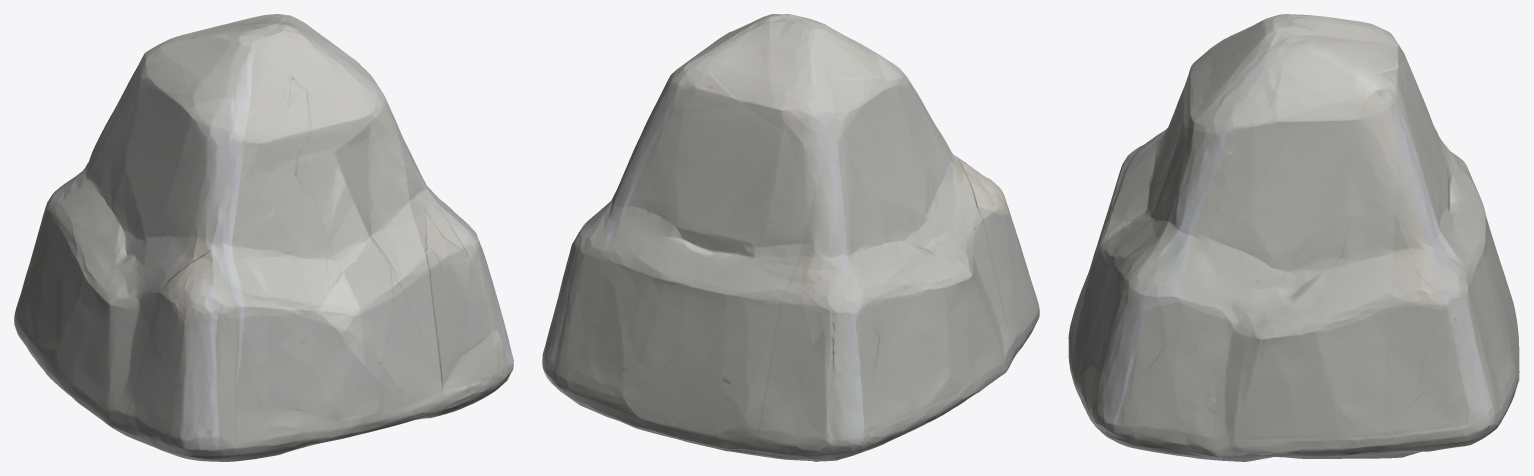
Rendered from rock.glb.
3 views of the same model, side by side, from view 1: azimuth 30°, elevation 25°; view 2: azimuth 150°, elevation 25°; view 3: azimuth 270°, elevation 25° (orthographic). The views are drawn at different scales.
Bounding box in the file's own units: 1.98 × 2 × 1.99.
Materials: 1 (1 with a texture image).
